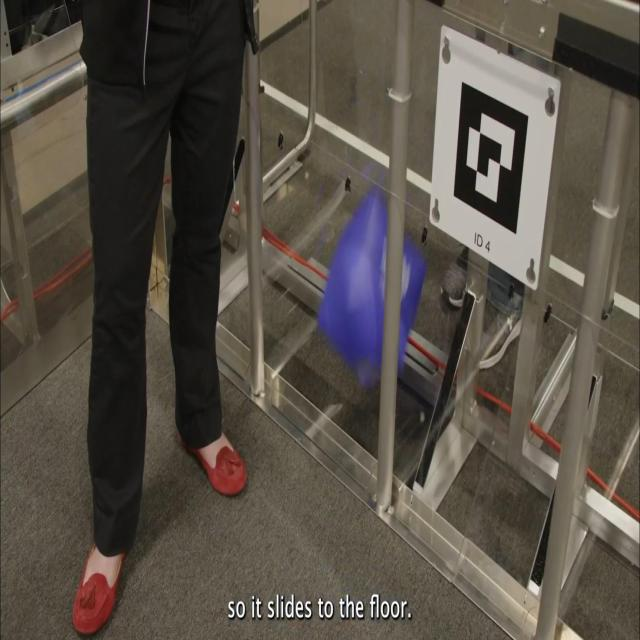frc_cube: (320, 189, 427, 386)
